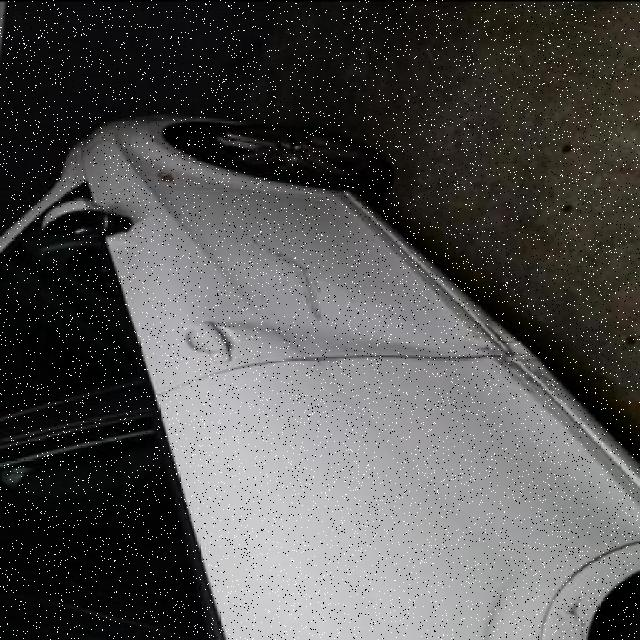damage: (222, 271, 439, 350), (465, 315, 561, 393), (246, 229, 321, 316), (543, 584, 596, 640)
